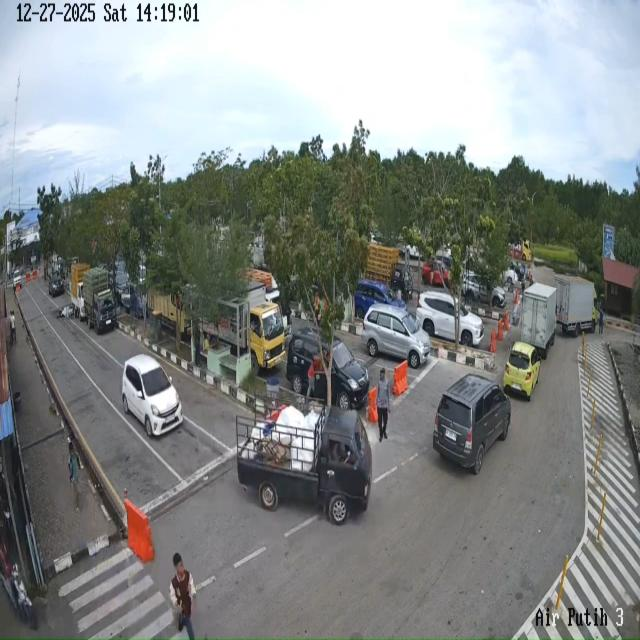Golongan IVA: (433, 373, 511, 475), (286, 326, 370, 411), (122, 354, 183, 438), (362, 304, 430, 369), (416, 290, 484, 347), (503, 342, 541, 402), (354, 279, 406, 320), (463, 271, 506, 308), (48, 272, 64, 298)
Golongan IVB: (236, 405, 372, 525), (82, 267, 117, 334), (70, 263, 90, 321)
Golongan VB: (202, 281, 286, 373), (521, 282, 557, 360), (555, 275, 598, 337)
